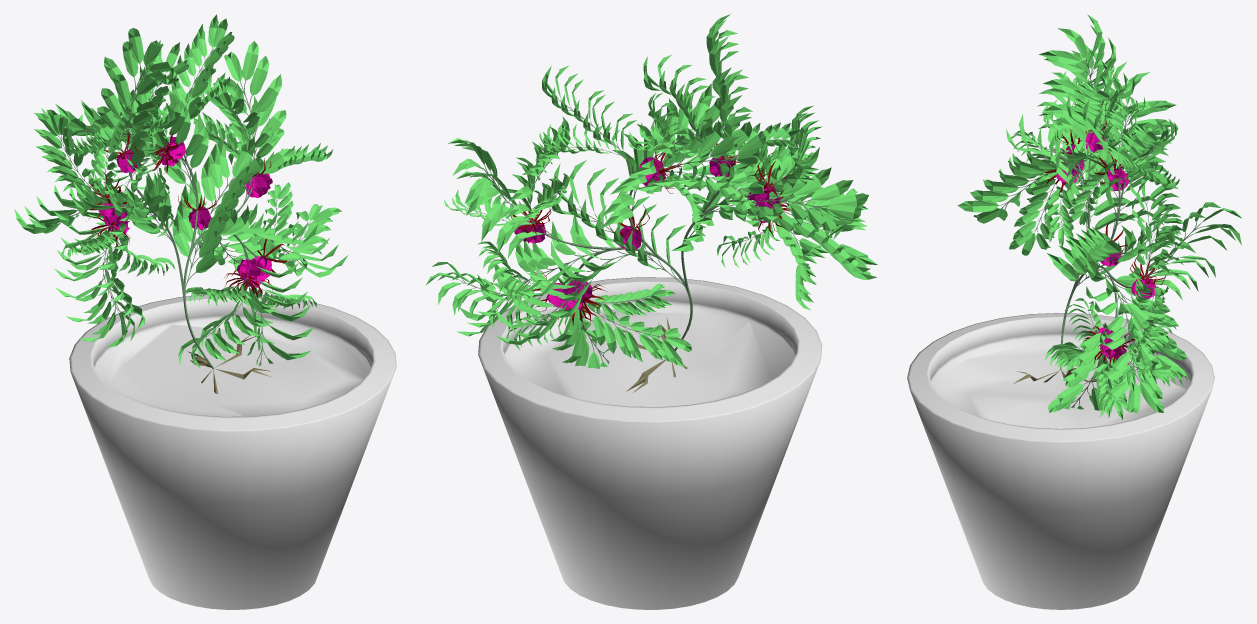
File: plant.fbx
3 views of the same model, side by side, from view 1: azimuth 30°, elevation 25°; view 2: azimuth 150°, elevation 25°; view 3: azimuth 270°, elevation 25° (orthographic). The views are drawn at different scales.
Parts seen in each view (by area): view 1: Circle, 1Newplan; view 2: Circle, 1Newplan; view 3: Circle, 1Newplan.
Part boxes in pixels (x1,y1,x2,y2): Circle: (69, 294, 396, 609); 1Newplan: (14, 14, 347, 393); Circle: (478, 277, 822, 609); 1Newplan: (426, 14, 877, 393); Circle: (907, 313, 1214, 609); 1Newplan: (957, 14, 1241, 420).
Bounding box in the file's own units: 5.02 × 7.26 × 4.23.
